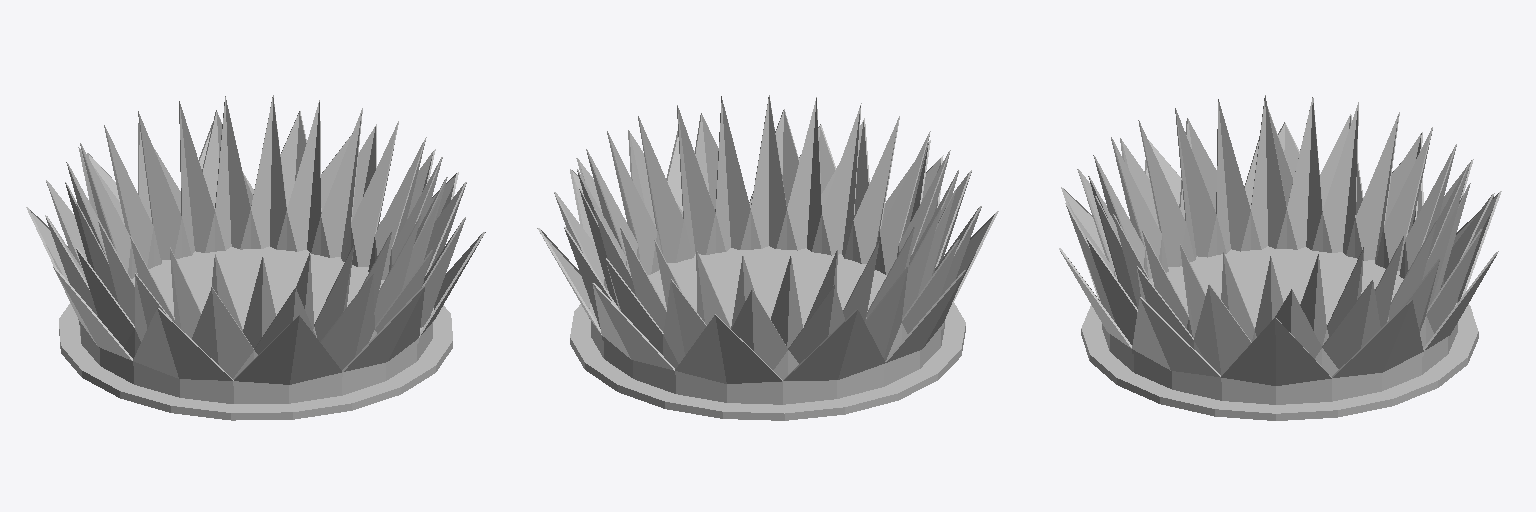
The model's file is portal_000046.obj.
3 renders of one model, left to right at view 1: azimuth 30°, elevation 25°; view 2: azimuth 150°, elevation 25°; view 3: azimuth 270°, elevation 25°, orthographic.
Parts seen in each view (by area): view 1: Cylinder.001, pCylinder1, Cylinder; view 2: Cylinder.001, pCylinder1, Cylinder; view 3: Cylinder.001, pCylinder1, Cylinder.
Part boxes in pixels (x1,y1,x2,y2): Cylinder.001: (65,95,447,348); pCylinder1: (26,123,485,420); Cylinder: (45,110,466,379); Cylinder.001: (577,95,958,347); pCylinder1: (537,124,998,420); Cylinder: (554,109,981,379); Cylinder.001: (1088,95,1470,345); pCylinder1: (1059,122,1501,420); Cylinder: (1065,109,1494,376).
Size of the model in its own units: 7.45 by 2.9 by 7.13.